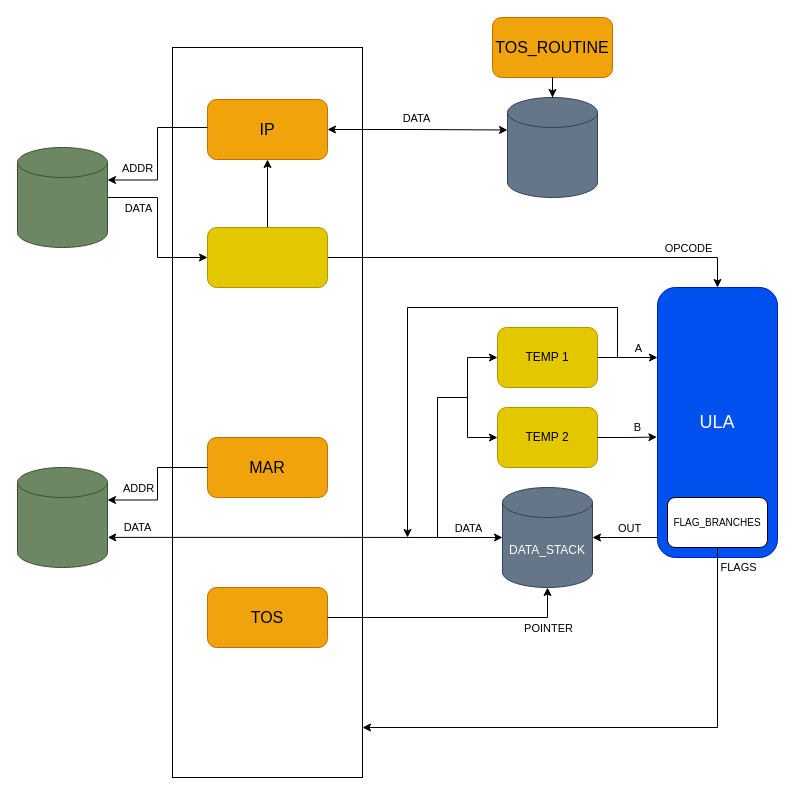
The diagram is 795 pixels wide and 795 high, and some of its shapes have lost their labels. Here are the shapes that lost their labels. From the top down, the centre of each, then its label:
At pixel 552 147: "SUB_ROUTINE STACK".
At pixel 62 197: "INSTRUCTION MEM".
At pixel 267 257: "IR".
At pixel 62 517: "DATA_MEM".
